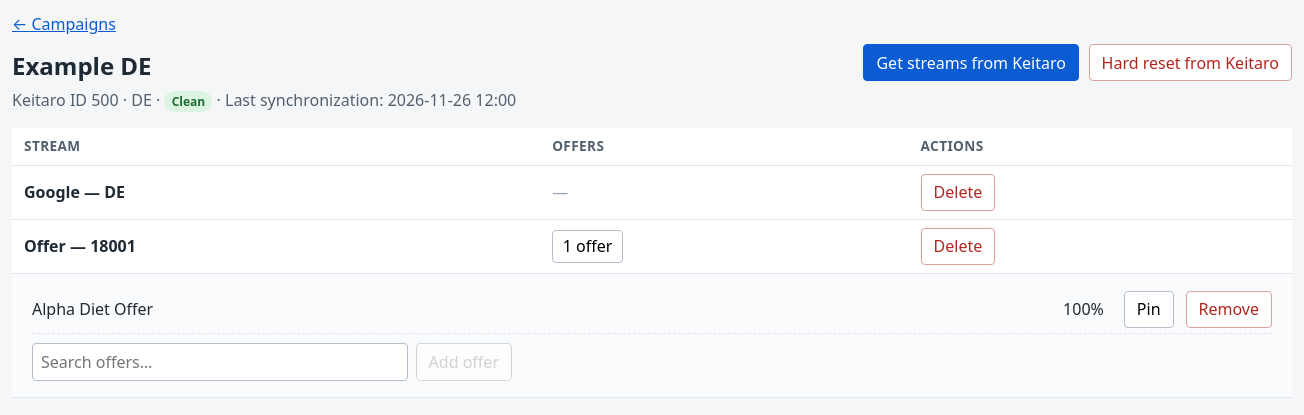
it: CampaignEditorPage — streams table › sends offer pin commands with the current revision; pin-only changes stay clean
This screenshot has width=1304, height=415.
Click the button "Pin". click: coordinates (1149, 310)
box: [1124,291,1174,328]
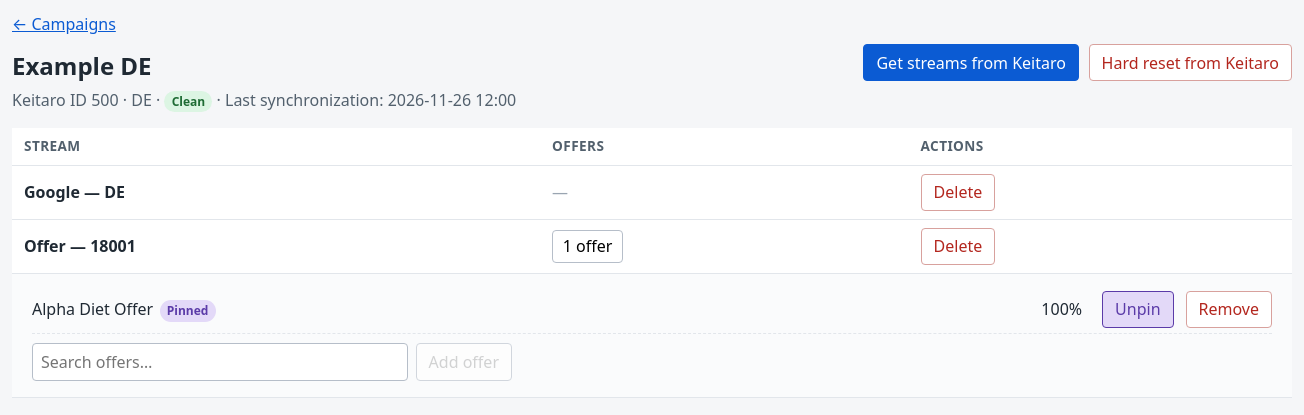
Expected: the button "Get streams from Keitaro" is shown, [864,44,1079,81]
Result: the text "Pinned" is shown at [160,300,216,322]
Result: the button "Unpin" is shown at [1102,291,1174,328]
